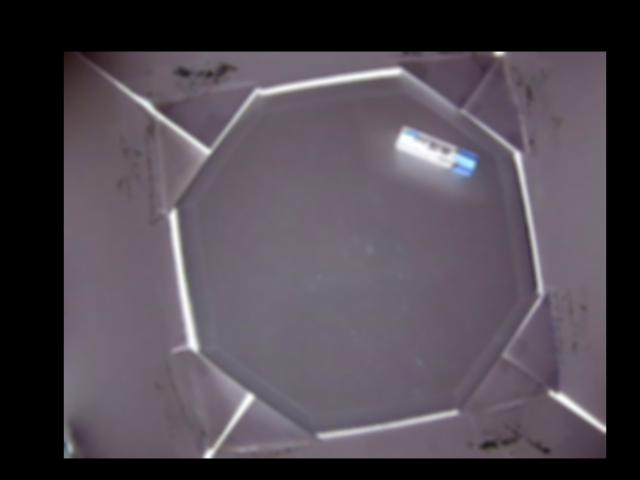Battery: (396, 126, 479, 175)
